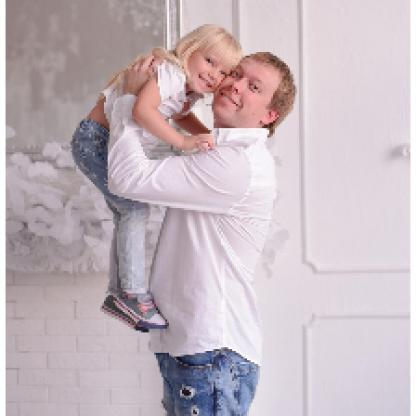child: (71, 24, 244, 334)
